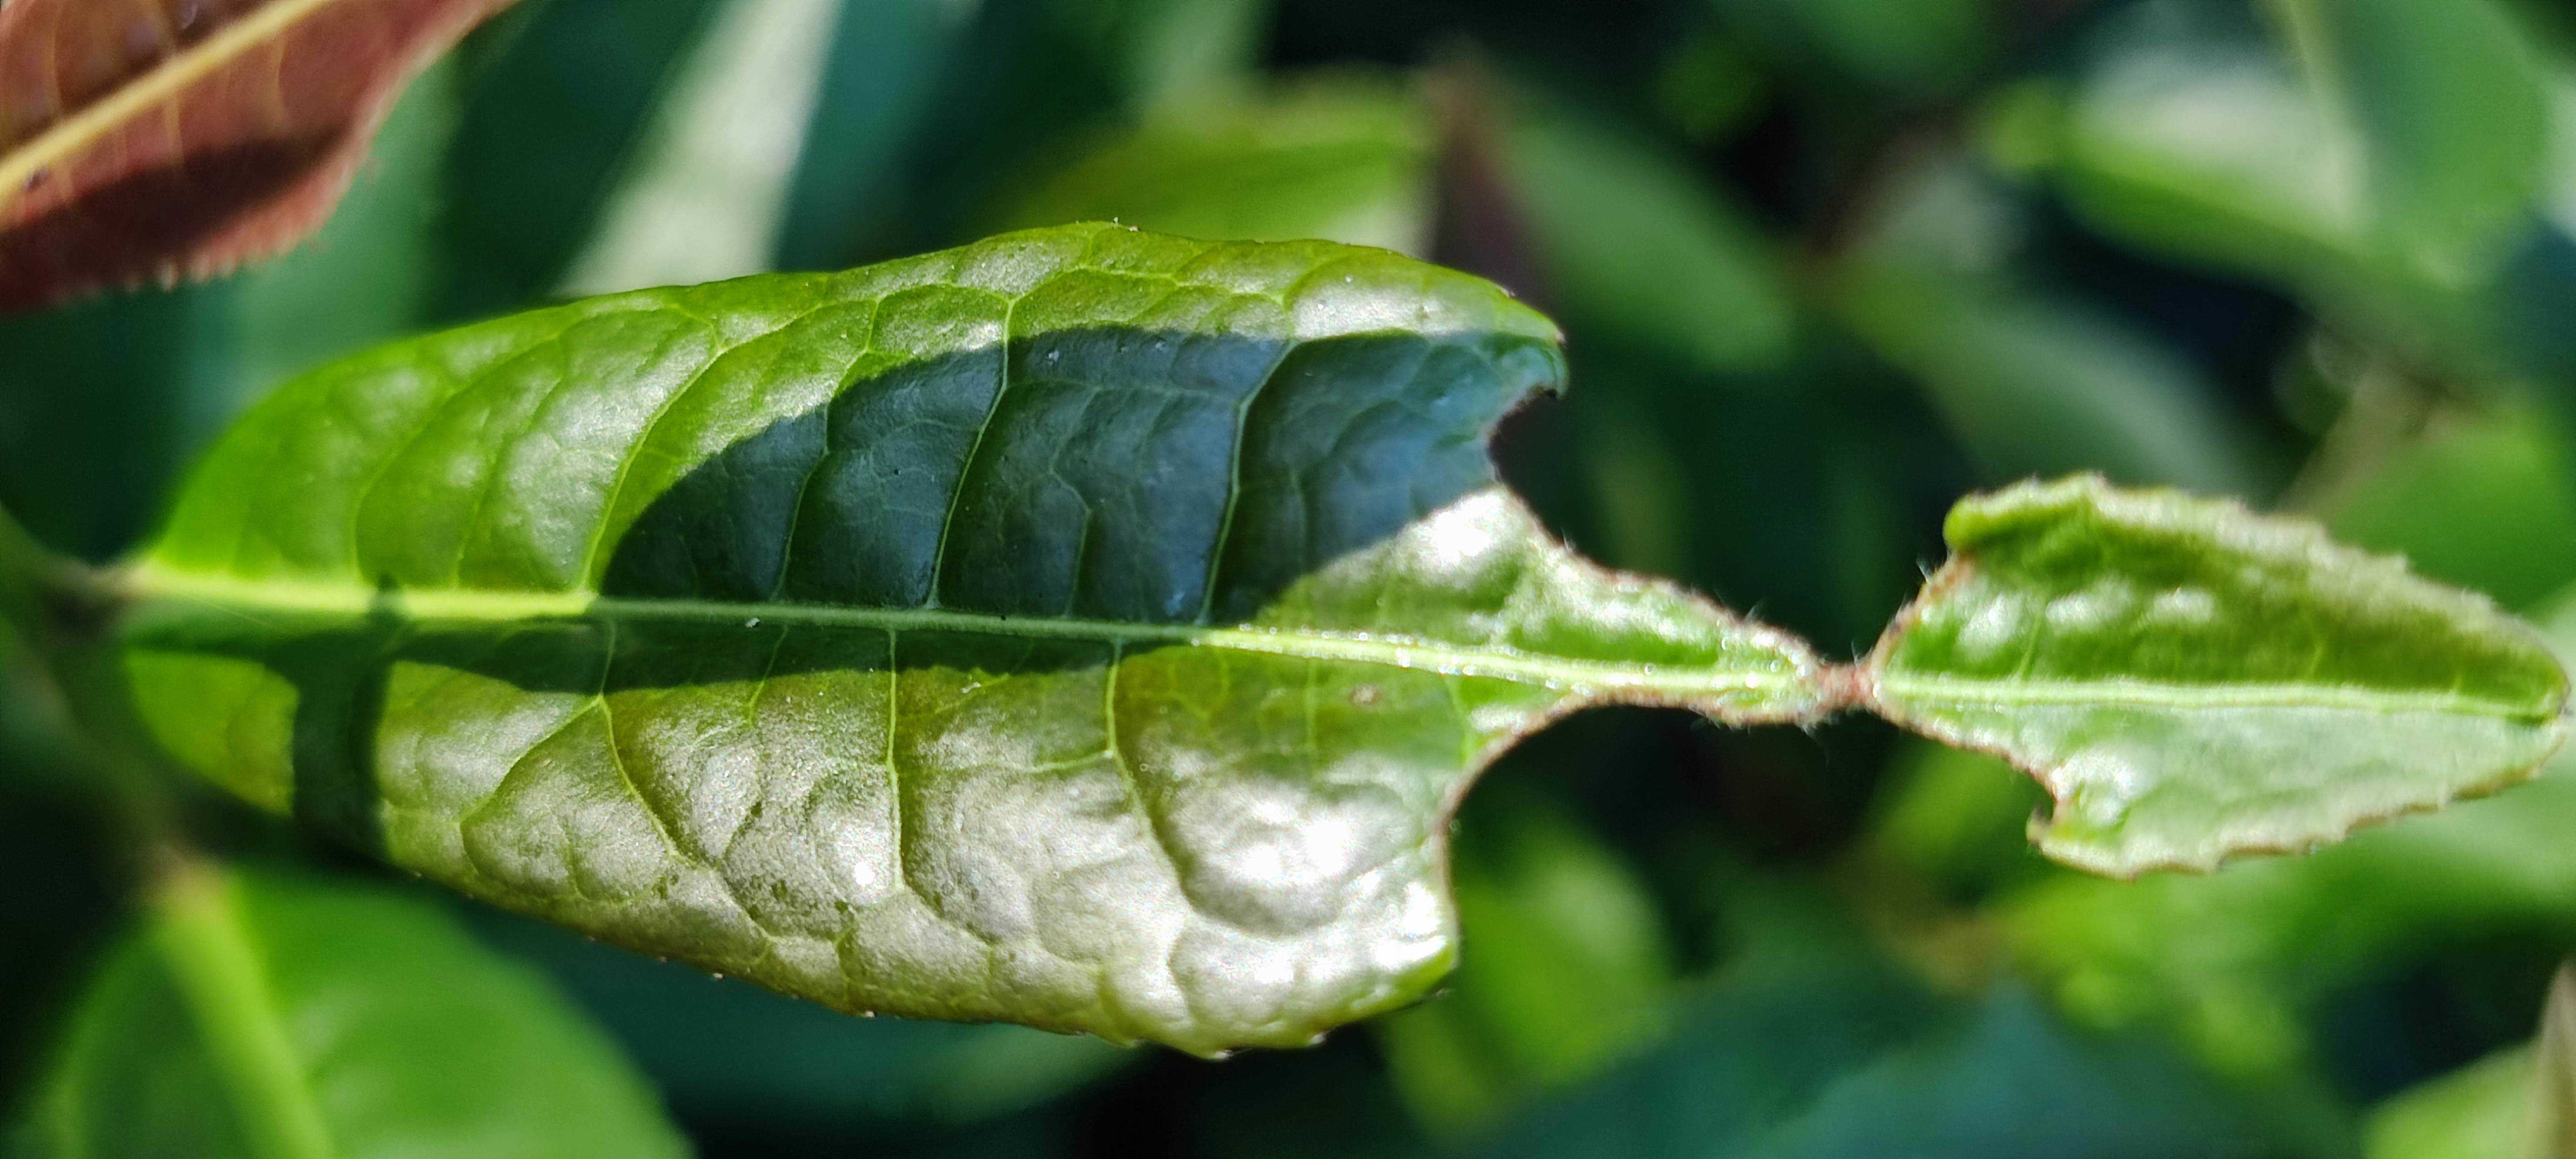chihuo_high: (72, 222, 2569, 1064)
tanju_low: (2, 3, 516, 305)
